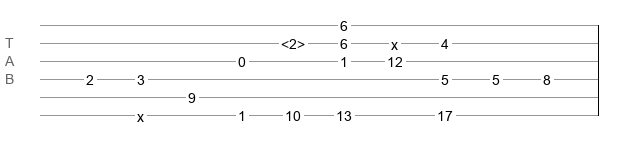0: (238, 54, 246, 64)
1: (238, 108, 246, 118), (340, 54, 348, 64)
10: (285, 108, 301, 118)
12: (387, 54, 403, 64)
13: (336, 108, 352, 118)
17: (437, 108, 453, 118)
2: (86, 72, 94, 82)
3: (137, 72, 145, 82)
4: (441, 36, 449, 46)
5: (441, 72, 449, 82), (492, 72, 500, 82)
6: (340, 36, 348, 46), (340, 18, 348, 28)
8: (543, 72, 551, 82)
9: (188, 90, 196, 100)
harmonic: (281, 36, 305, 46)
x: (137, 109, 144, 117), (391, 37, 398, 45)
